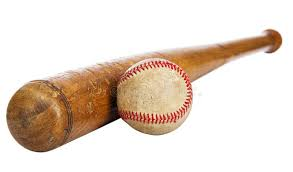baseball bat: (6, 28, 282, 154)
